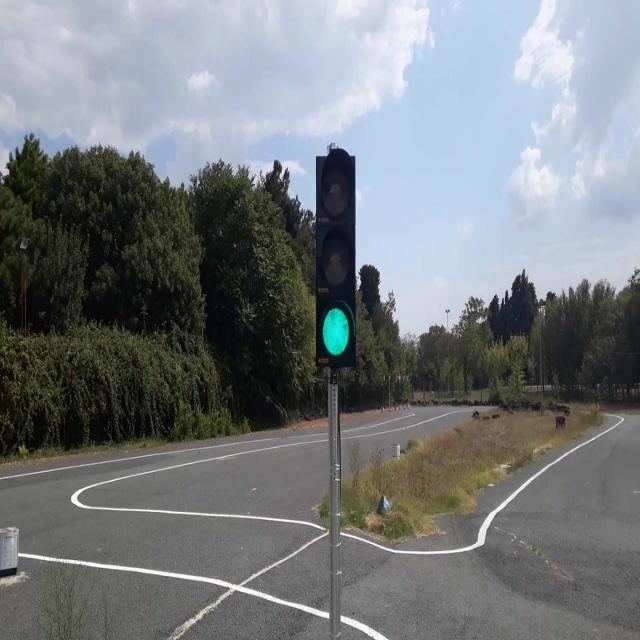yesil: (317, 156, 357, 364)
